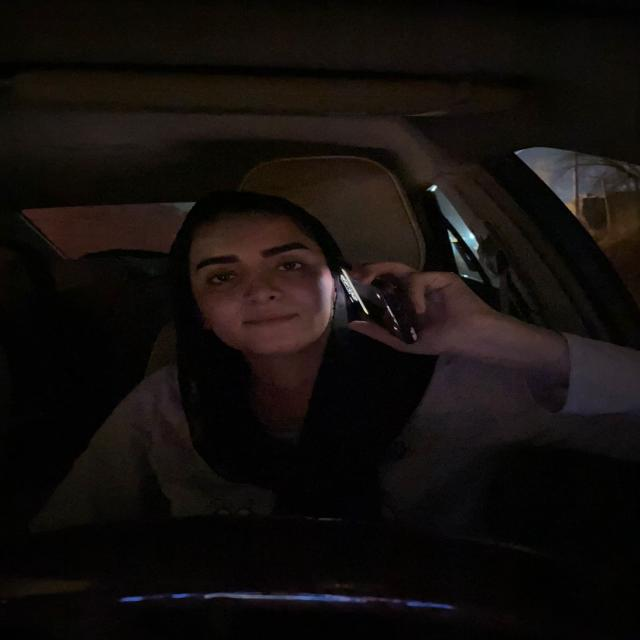phone: (334, 260, 418, 346)
